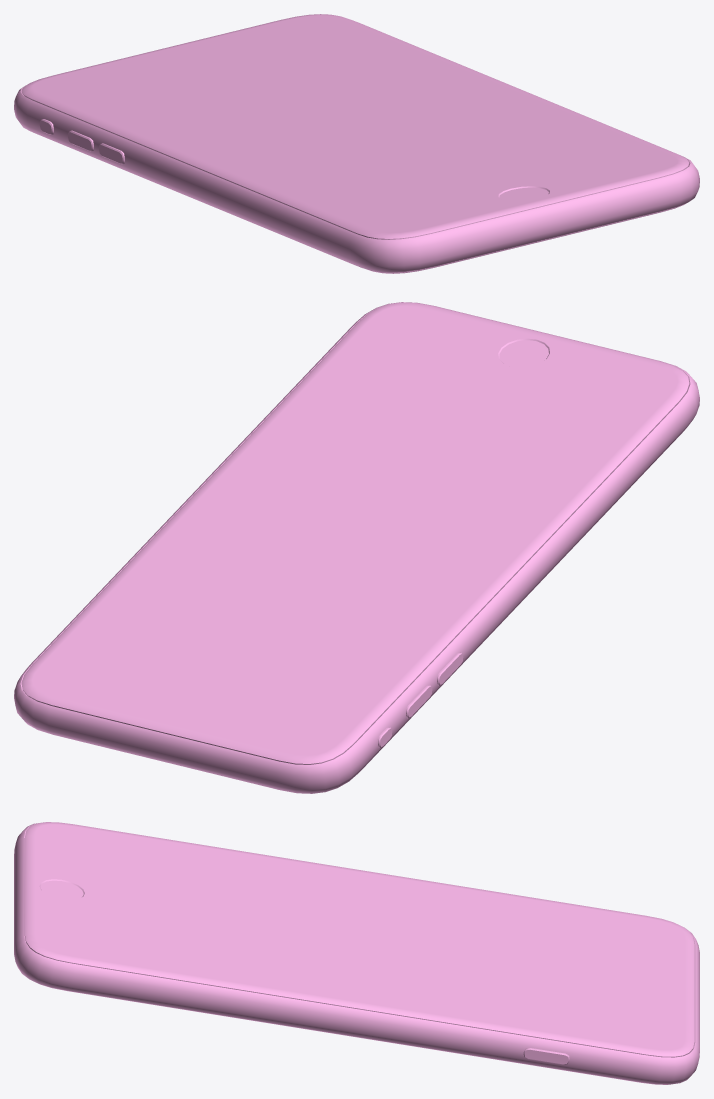
File: Phone.fbx
3 renders of one model, top to bottom at view 1: azimuth 30°, elevation 25°; view 2: azimuth 150°, elevation 25°; view 3: azimuth 270°, elevation 25°, orthographic. The views are drawn at different scales.
Visible parts, largest first — view 1: Layer 01; view 2: Layer 01; view 3: Layer 01.
Boxes of the visible parts, x1,y1,x2,y2 form: Layer 01: (14, 14, 699, 273); Layer 01: (14, 302, 699, 793); Layer 01: (14, 822, 699, 1084).
Size of the model in its own units: 7.15 by 14.14 by 3.13.
